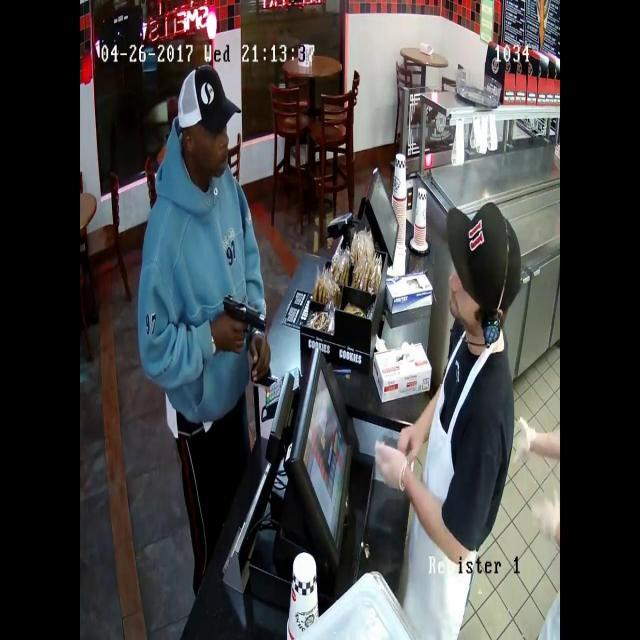weapon: (210, 271, 278, 360)
